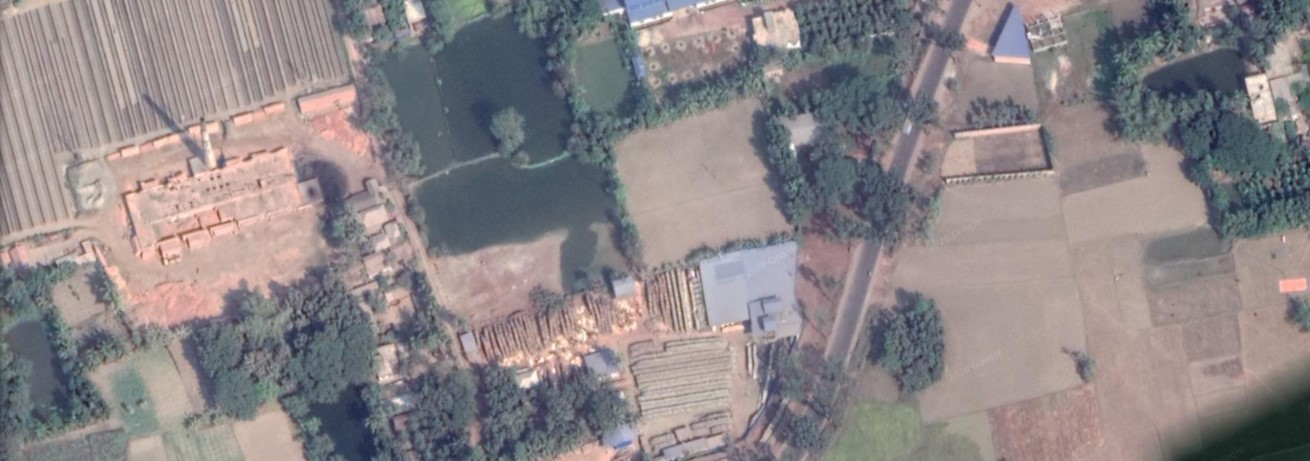kiln: (101, 103, 314, 248)
